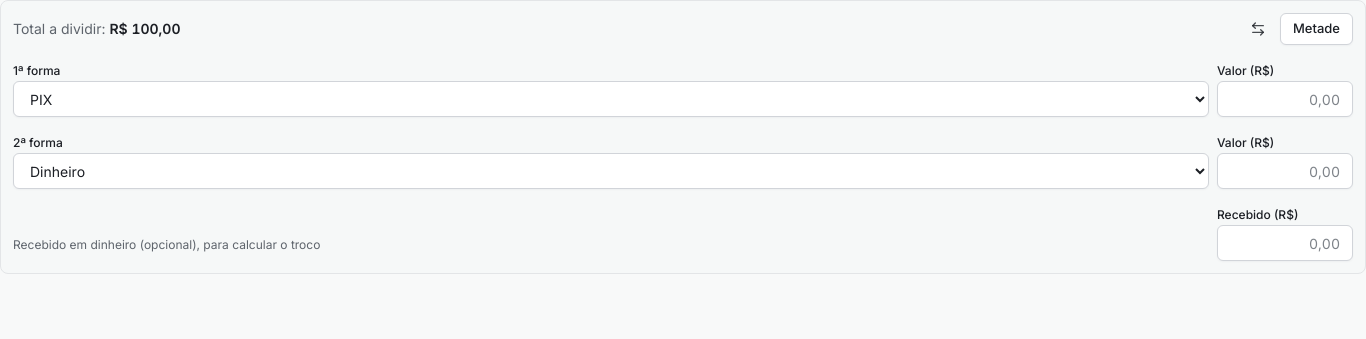
it: PagamentoDividido › com parte em dinheiro, calcula o troco sobre essa parte
Step 1. Type "60" into the field with id "divisao-valor-1" → (1285, 99), box [1217, 81, 1353, 117]
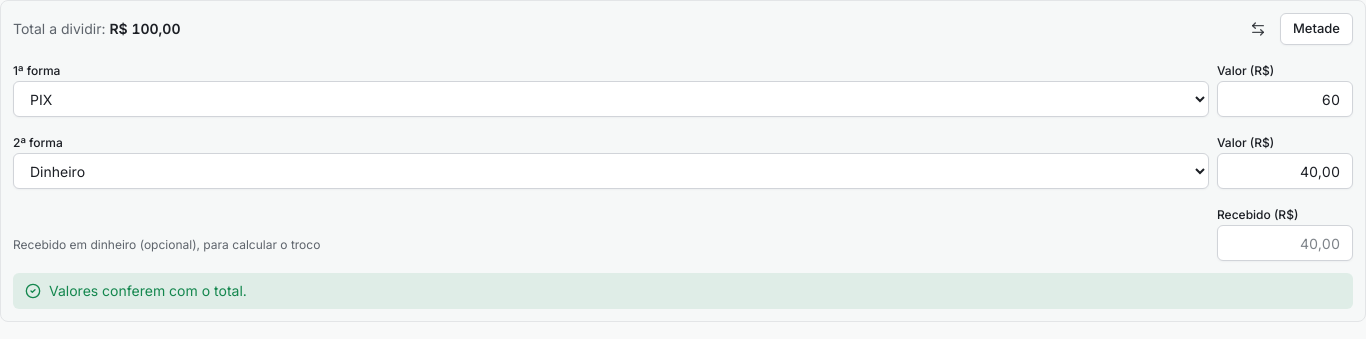
Step 2. Type "50" into the field with id "divisao-recebido" → (1285, 243), box [1217, 225, 1353, 261]
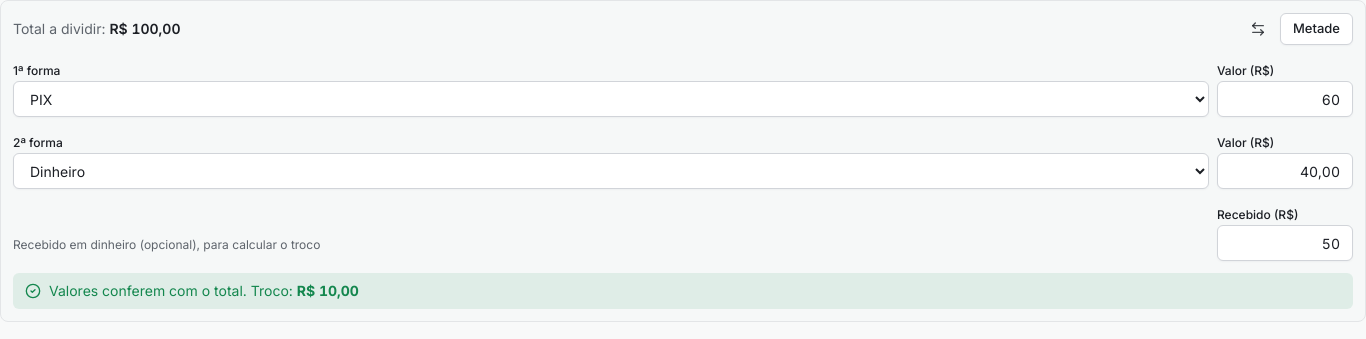
Now the message shows "Troco: R$ 10,00", box [13, 273, 1353, 309]
